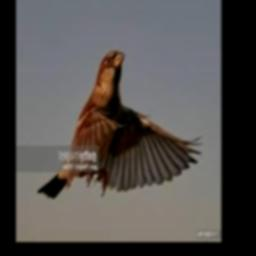Sparrow: (38, 50, 203, 199)
